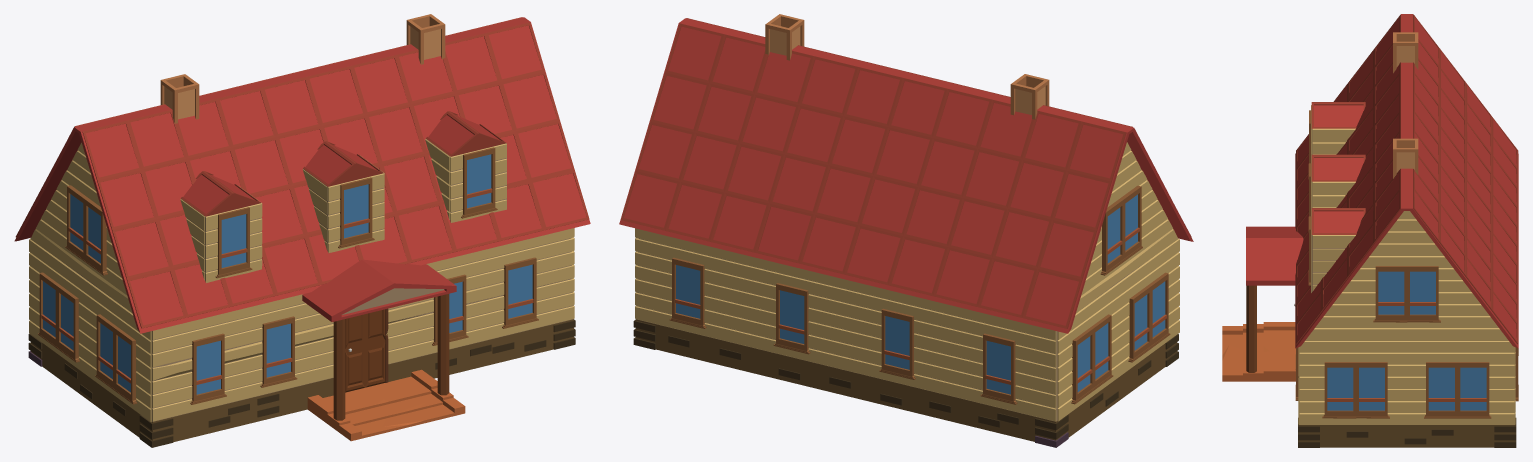
Rendered from House_Main.fbx.
The picture shows the model from 3 angles, left to right: view 1: azimuth 30°, elevation 25°; view 2: azimuth 150°, elevation 25°; view 3: azimuth 270°, elevation 25°; orthographic projection. The views are drawn at different scales.
Visible parts, largest first — view 1: House_4; view 2: House_4; view 3: House_4.
Part boxes in pixels (x1=…): House_4: x1=14, y1=14, x2=590, y2=447; House_4: x1=619, y1=14, x2=1193, y2=447; House_4: x1=1222, y1=14, x2=1518, y2=447.
Bounding box in the file's own units: 1381 × 878 × 889.
